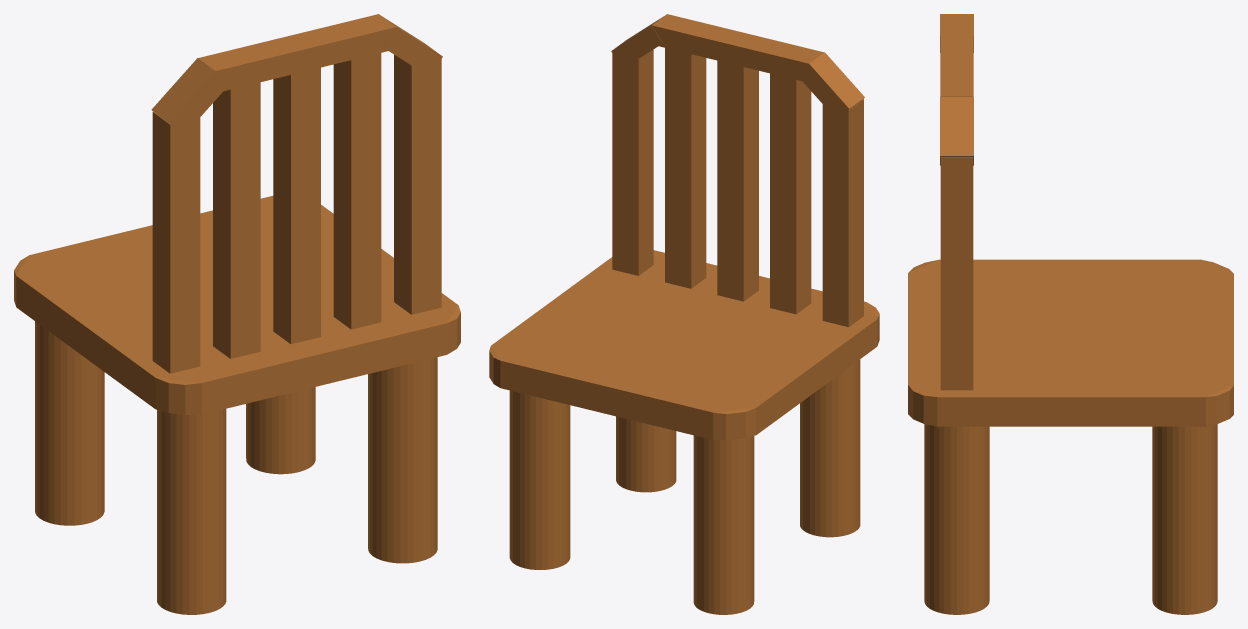
Rendered from chair.fbx.
3 views of the same model, side by side, from view 1: azimuth 30°, elevation 25°; view 2: azimuth 150°, elevation 25°; view 3: azimuth 270°, elevation 25° (orthographic). The views are drawn at different scales.
Parts seen in each view (by area): view 1: Cube, Cylinder.002, Cylinder, Cube.002, Cube.001, Cube.003, Cylinder.003, Cube.005, Cube.004, Cube.006, Cylinder.001, Cube.007 (+1 smaller); view 2: Cube, Cylinder.003, Cylinder.001, Cube.001, Cube.002, Cube.003, Cylinder.002, Cube.005, Cube.004, Cube.006, Cylinder, Cube.007 (+1 smaller); view 3: Cube, Cylinder, Cylinder.001, Cube.004, Cube.006, Cube.008.
Boxes of the visible parts, x1,y1,x2,y2 form: Cube: (14,196,460,414); Cylinder.002: (157,409,226,614); Cylinder: (368,357,437,563); Cube.002: (333,53,381,329); Cube.001: (273,67,320,344); Cube.003: (213,82,260,358); Cylinder.003: (35,321,104,525); Cube.005: (152,112,200,373); Cube.004: (394,54,441,314); Cube.006: (198,14,396,90); Cylinder.001: (246,387,315,474); Cube.007: (151,58,228,136); Cube: (489,250,879,440); Cylinder.003: (693,435,754,614); Cylinder.001: (509,390,570,569); Cube.001: (717,60,758,301); Cube.002: (665,48,706,288); Cube.003: (770,73,811,314); Cylinder.002: (800,359,860,537); Cube.005: (822,99,863,327); Cube.004: (612,49,653,275); Cube.006: (651,14,824,80); Cylinder: (616,416,676,492); Cube.007: (797,52,864,120); Cube: (908,259,1233,426); Cylinder: (924,424,989,614); Cylinder.001: (1152,424,1217,614); Cube.004: (940,157,973,390); Cube.006: (940,14,973,96); Cube.008: (940,97,973,165).
Bounding box in the file's own units: 100 × 169 × 100.
